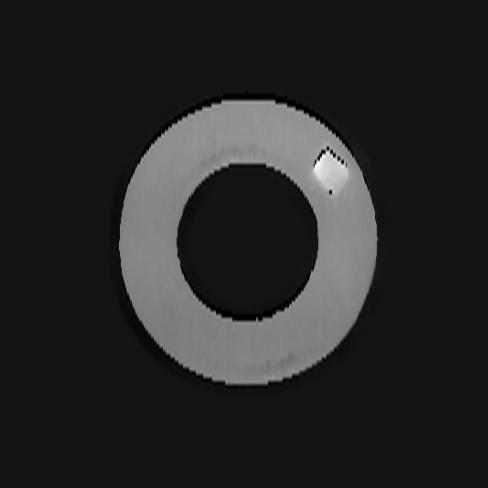defect: (313, 145, 349, 200)
